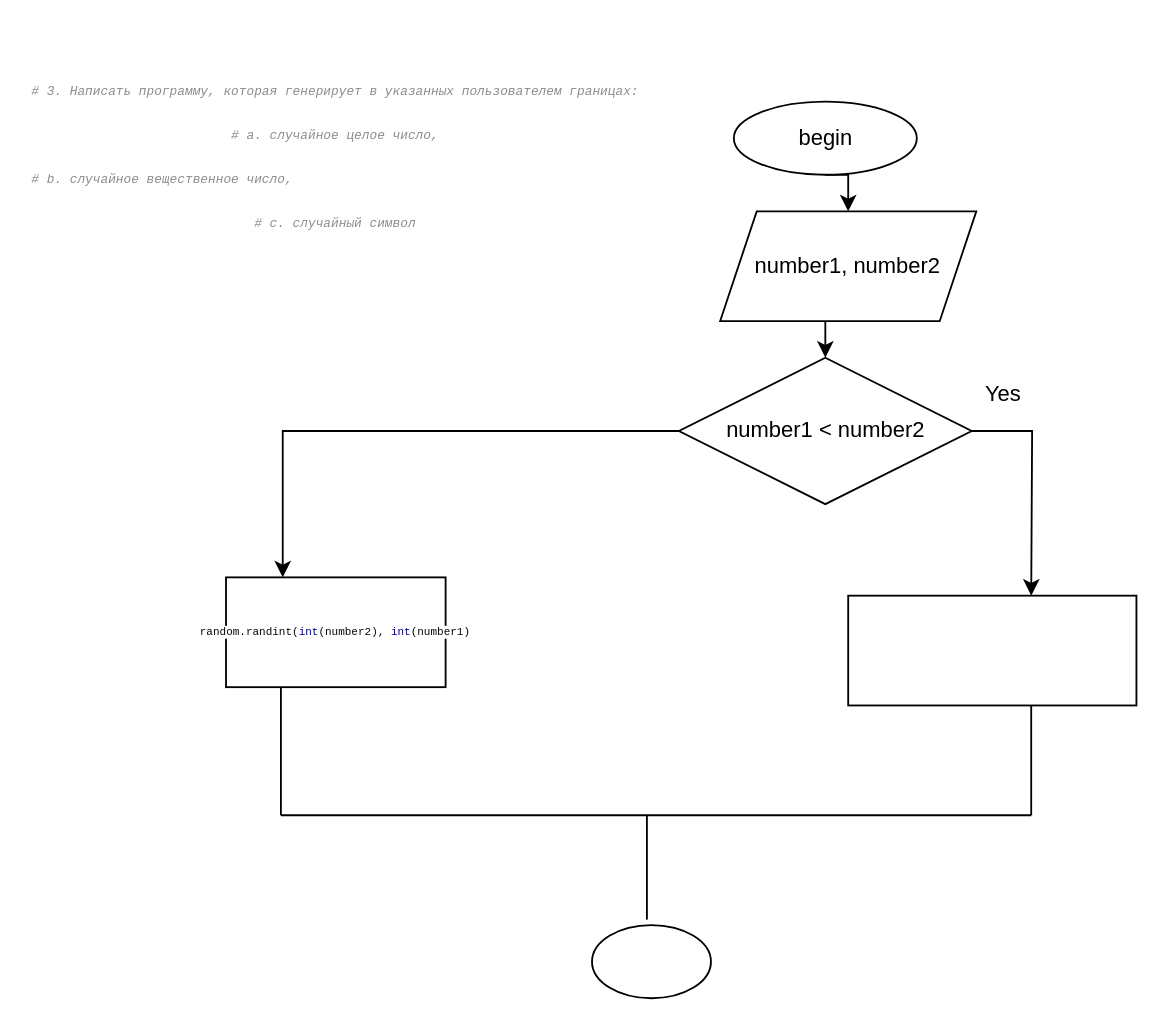
Image size: 1168x1030. Some labels were removed from this diagram. Here are the shapes that lost their labels. From the top down, the centre of each, then its label:
At point 991,649: "random.randint( int (number1), int (number2)".
At point 650,960: "end".
